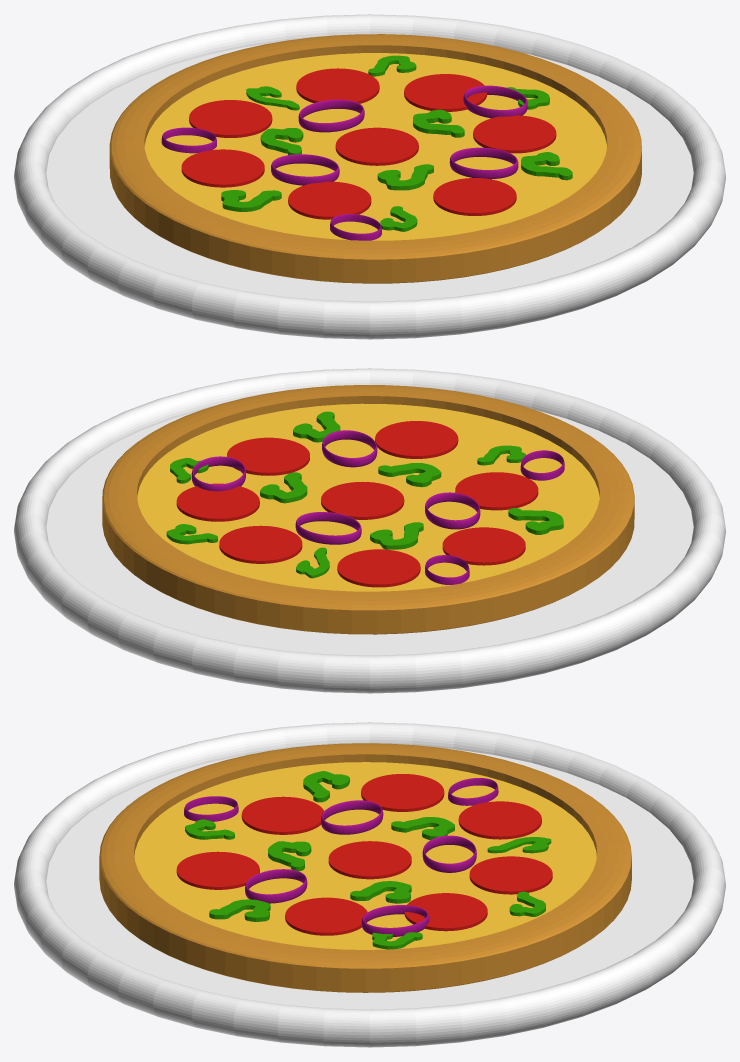
The model's file is pica.glb.
The picture shows the model from 3 angles, top to bottom: view 1: azimuth 30°, elevation 25°; view 2: azimuth 150°, elevation 25°; view 3: azimuth 270°, elevation 25°; orthographic projection.
Visible parts, largest first — view 1: obj_22; view 2: obj_22; view 3: obj_22.
Part boxes in pixels (x1,y1,x2,y2): obj_22: [14, 14, 725, 339]; obj_22: [14, 368, 725, 693]; obj_22: [14, 722, 725, 1047].
Bounding box in the file's own units: 0.6 × 0.05 × 0.6.
